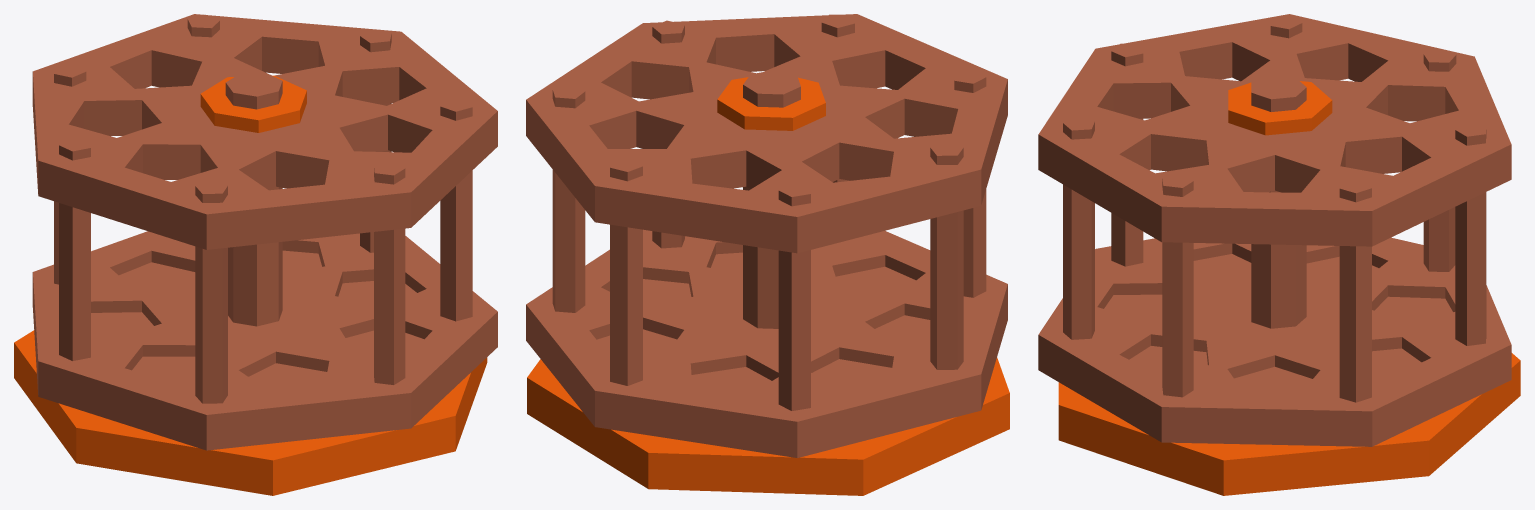
The model's file is Rack_Ampules_Rotating_1.fbx.
3 views of the same model, side by side, from view 1: azimuth 30°, elevation 25°; view 2: azimuth 150°, elevation 25°; view 3: azimuth 270°, elevation 25° (orthographic). The views are drawn at different scales.
Visible parts, largest first — view 1: Rack_Ampules_Rotating_1_Top, Rack_Ampules_Rotating_1; view 2: Rack_Ampules_Rotating_1_Top, Rack_Ampules_Rotating_1; view 3: Rack_Ampules_Rotating_1_Top, Rack_Ampules_Rotating_1.
Part boxes in pixels (<box>): Rack_Ampules_Rotating_1_Top: <box>32,14,497,450</box>; Rack_Ampules_Rotating_1: <box>14,73,487,495</box>; Rack_Ampules_Rotating_1_Top: <box>526,14,1007,457</box>; Rack_Ampules_Rotating_1: <box>527,70,1009,495</box>; Rack_Ampules_Rotating_1_Top: <box>1038,14,1511,446</box>; Rack_Ampules_Rotating_1: <box>1058,75,1520,495</box>.
Bounding box in the file's own units: 47.37 × 33.64 × 47.63.
